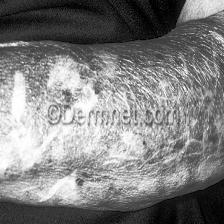Benign Marking or Mole: (7, 71, 37, 172), (146, 132, 224, 169), (47, 58, 105, 105)
